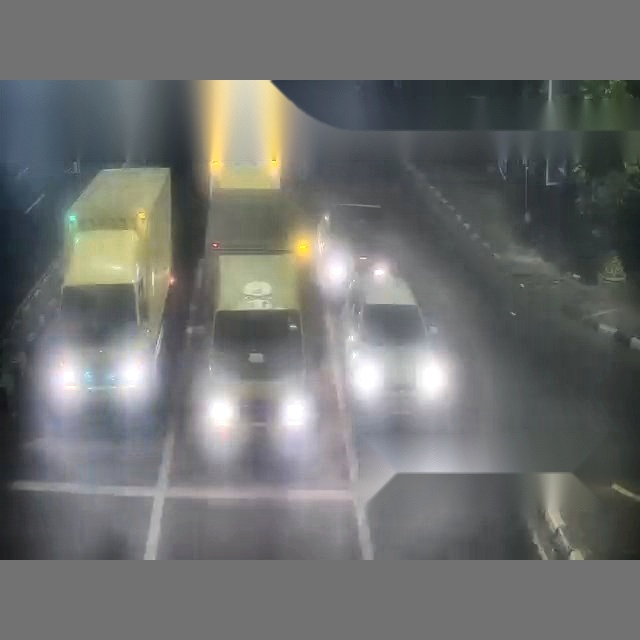Mobil: (342, 260, 442, 411)
Truk: (197, 78, 289, 194)
